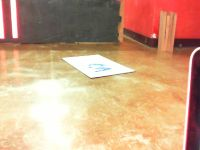switch: (10, 1, 19, 39), (1, 1, 5, 39)
